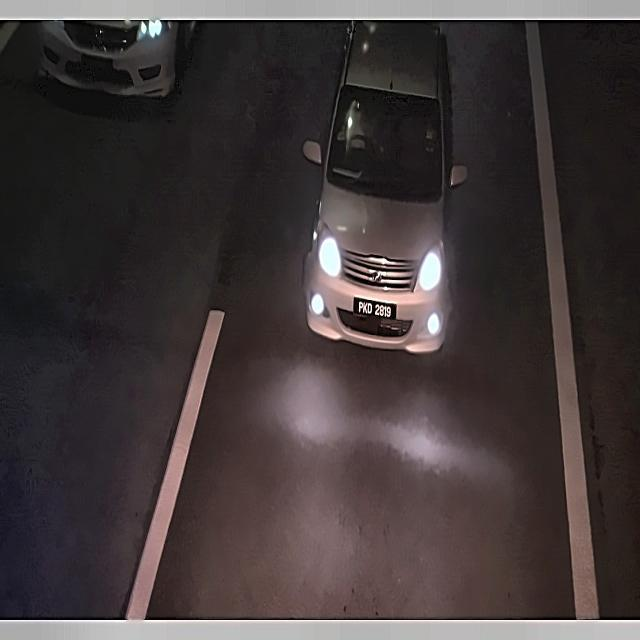car: (352, 294, 405, 326), (76, 51, 119, 80)
